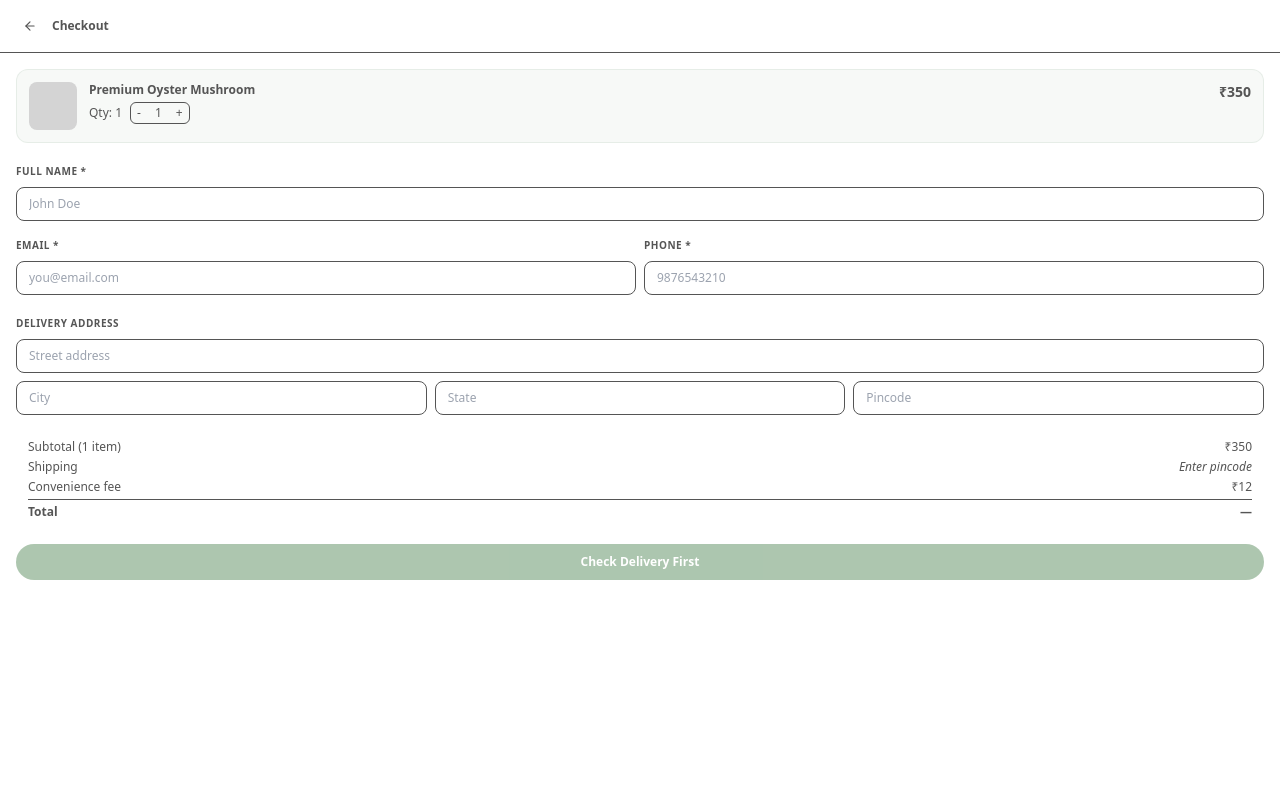
ChatCheckout › Details Step › shows free shipping when applicable
Type "248001" into the field with placeholder "Pincode" at point(1059, 398), box [853,381,1264,415]
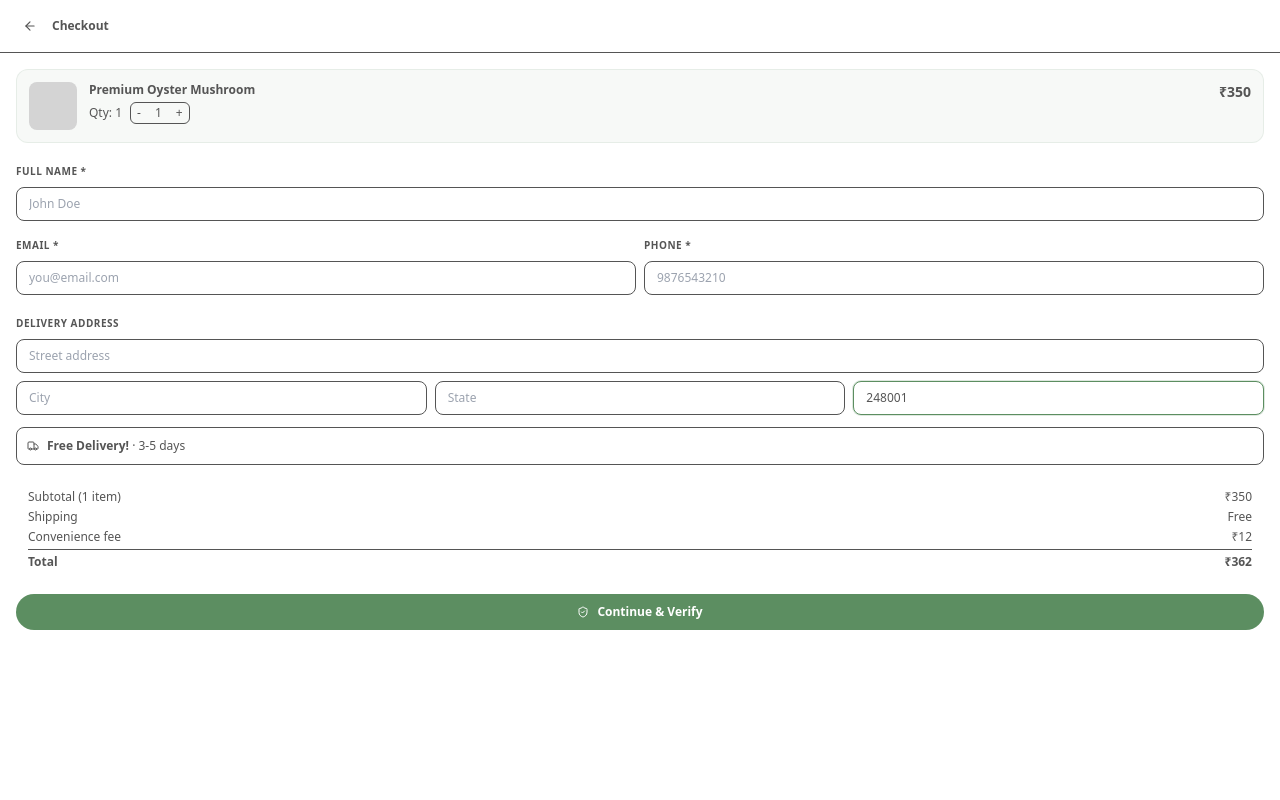
expect the text "Free Delivery!" is shown: met, box [47,437,129,454]
